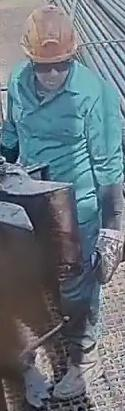gloves: (91, 227, 124, 284)
goggles: (31, 58, 71, 73)
helmet: (19, 3, 78, 63)
vest: (6, 64, 122, 226)
